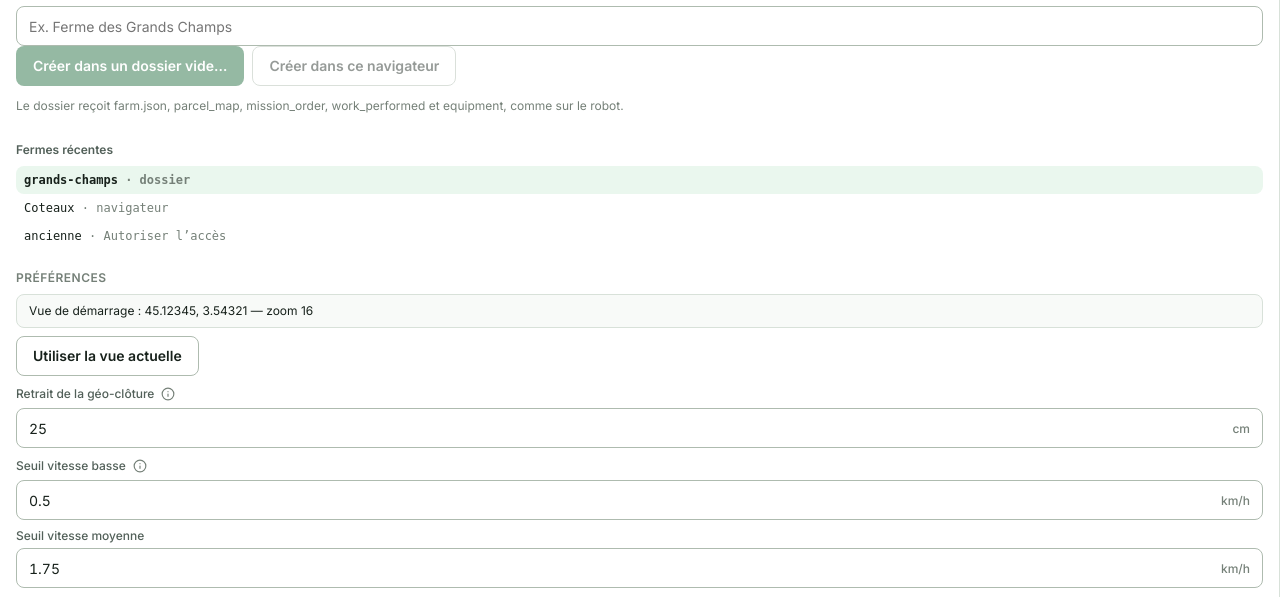
Test case: administration saves through the farm API › says so when no map is mounted rather than saving a wrong view
The image size is (1280, 597).
(page scrolled)
Click the button "Utiliser la vue actuelle" at (107, 356), box [16,336,199,376]
(page scrolled)
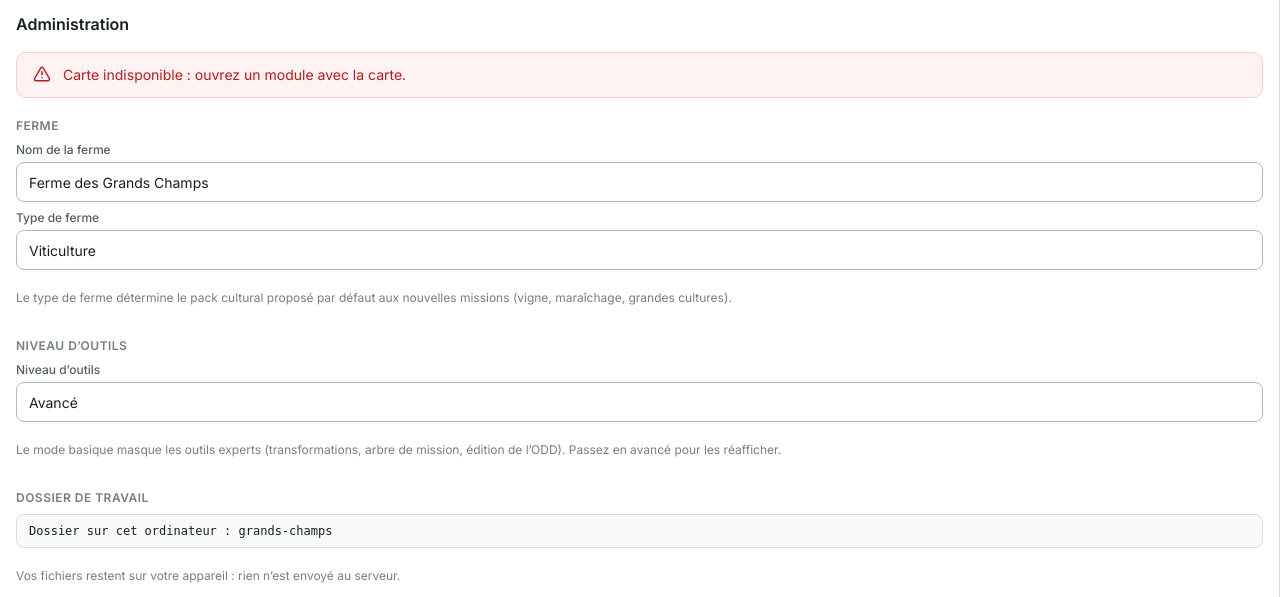
Expected: the text "Carte indisponible : ouvrez un module avec la carte." is shown, [63,65,406,85]
